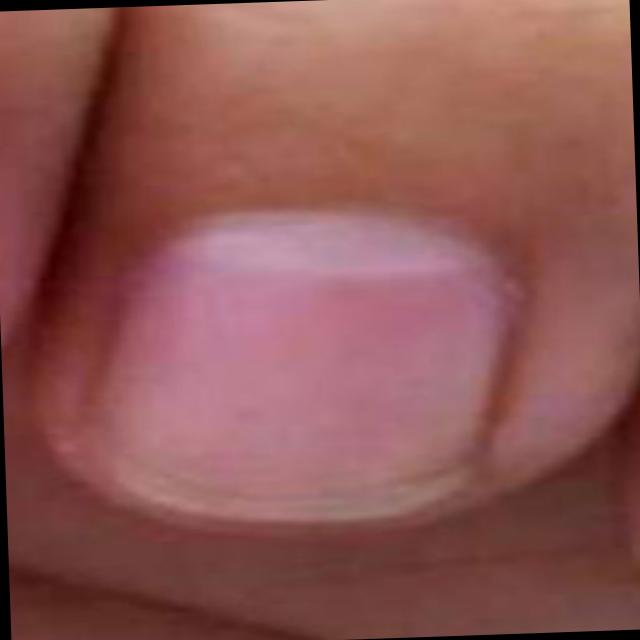Nail: (104, 212, 507, 518)
